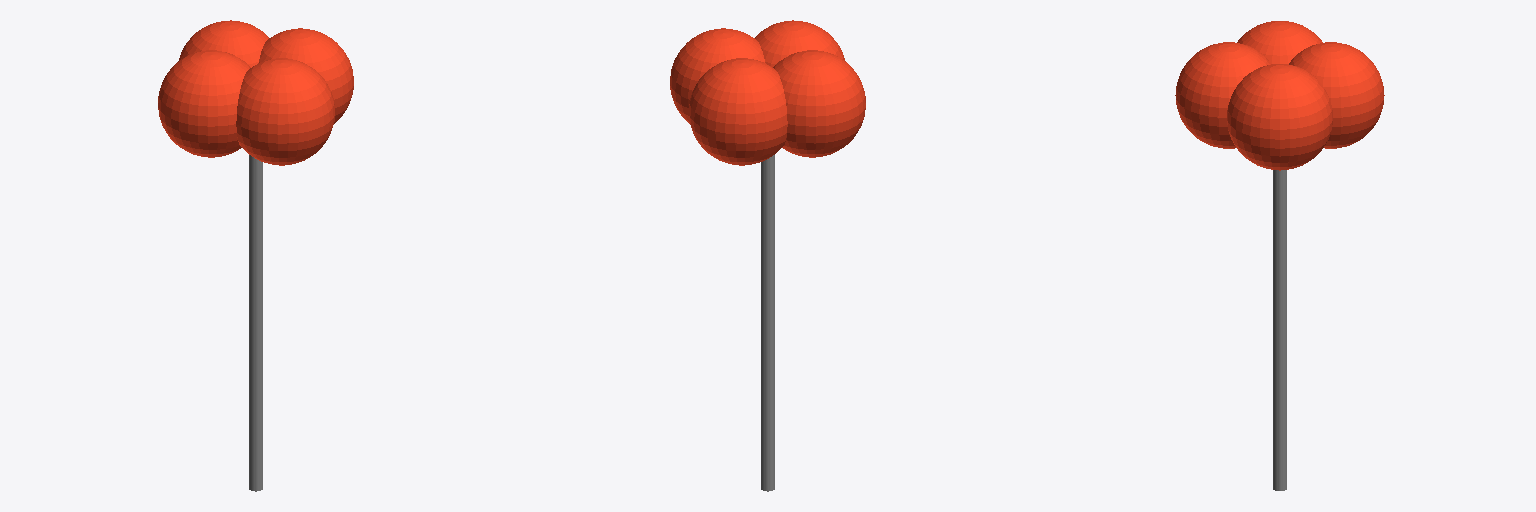
URDF robot description (box):
<?xml version="1.0" ?>
<robot name="box">

  <material name="panda_white">
    <color rgba="1. 0.87 0.68 1."/>
  </material>

  <material name="metal">
    <color rgba="0.6 0.6 0.6 1."/>
  </material>

  <material name="orangered">
    <color rgba="1 0.34 0.2 0.5"/>
  </material>

  <link name="link1">
    <inertial>
      <origin rpy="0 0 0" xyz="0 0 0"/>
       <mass value=".0"/>
       <inertia ixx="0" ixy="0" ixz="0" iyy="0" iyz="0" izz="0"/>
    </inertial>

    <visual>
      <origin rpy="0 0 0" xyz="0 0 0.15"/>
      <geometry>
        <cylinder radius="0.005" length="0.3"/>
      </geometry>
      <material name="metal"/>
    </visual>
  </link>

  <link name="link2">
    <inertial>
      <origin rpy="0 0 0" xyz="0 0 0"/>
       <mass value=".0"/>
       <inertia ixx="0" ixy="0" ixz="0" iyy="0" iyz="0" izz="0"/>
    </inertial>

    <visual>
      <origin rpy="0 0 0" xyz="0 0 0.3"/>
      <geometry>
        <box size="0.10 0.10 0.005"/>
      </geometry>
      <material name="panda_white"/>
    </visual>
  </link>

  <link name="link3">
    <inertial>
      <origin rpy="0 0 0" xyz="0 0 0"/>
       <mass value=".0"/>
       <inertia ixx="0" ixy="0" ixz="0" iyy="0" iyz="0" izz="0"/>
    </inertial>

    <visual>
      <origin rpy="0 0 0" xyz="0.025 0.025 0.3"/>
      <geometry>
        <sphere radius="0.037"/>
      </geometry>
      <material name="orangered"/>
    </visual>

    <visual>
      <origin rpy="0 0 0" xyz="0.025 -0.025 0.3"/>
      <geometry>
        <sphere radius="0.037"/>
      </geometry>
      <material name="orangered"/>
    </visual>

    <visual>
      <origin rpy="0 0 0" xyz="-0.025 0.025 0.3"/>
      <geometry>
        <sphere radius="0.037"/>
      </geometry>
      <material name="orangered"/>
    </visual>

    <visual>
      <origin rpy="0 0 0" xyz="-0.025 -0.025 0.3"/>
      <geometry>
        <sphere radius="0.037"/>
      </geometry>
      <material name="orangered"/>
    </visual>

  </link>

  <joint name="fixed_joint" type="fixed">
    <parent link="link1"/>
    <child link="link2"/>
    <origin xyz="0 0 0" rpy="0 0 0.78539816339"/>
  </joint>

  <joint name="fixed_joint2" type="fixed">
    <parent link="link1"/>
    <child link="link3"/>
    <origin xyz="0 0 0" rpy="0 0 0.78539816339"/>
  </joint>

</robot>

--- What the picture shows (computed from the rendered views, not written in the file) ---
3 views of the same robot in one strip: view 1: azimuth 30°, elevation 25°; view 2: azimuth 150°, elevation 25°; view 3: azimuth 270°, elevation 25° (orthographic).
Model box with 3 links and 2 joints (2 fixed), rooted at link1, posed every joint at zero.
Links seen in each view (by area): view 1: link3, link1; view 2: link3, link1; view 3: link3, link1.
Boxes of the visible links, x1,y1,x2,y2 form: link3: (158, 20, 353, 165); link1: (249, 155, 262, 491); link3: (670, 20, 865, 165); link1: (761, 155, 774, 491); link3: (1175, 21, 1384, 170); link1: (1273, 170, 1286, 490).
Bounding box of the posed robot: 0.1447 × 0.1447 × 0.337 m (x, y, z).
Geometry: primitives only (box / cylinder / sphere), no mesh files.